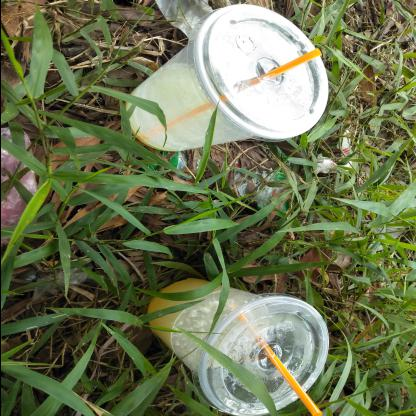plastik: (124, 4, 328, 152), (145, 278, 329, 415)
